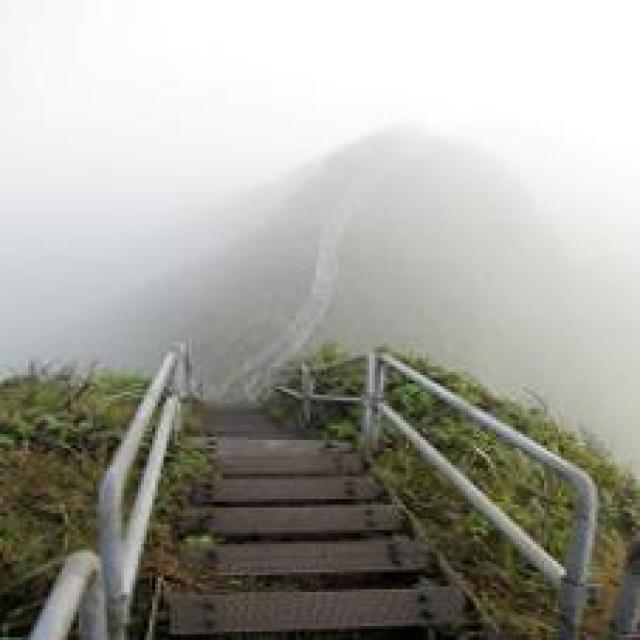downstair: (179, 480, 466, 630)
